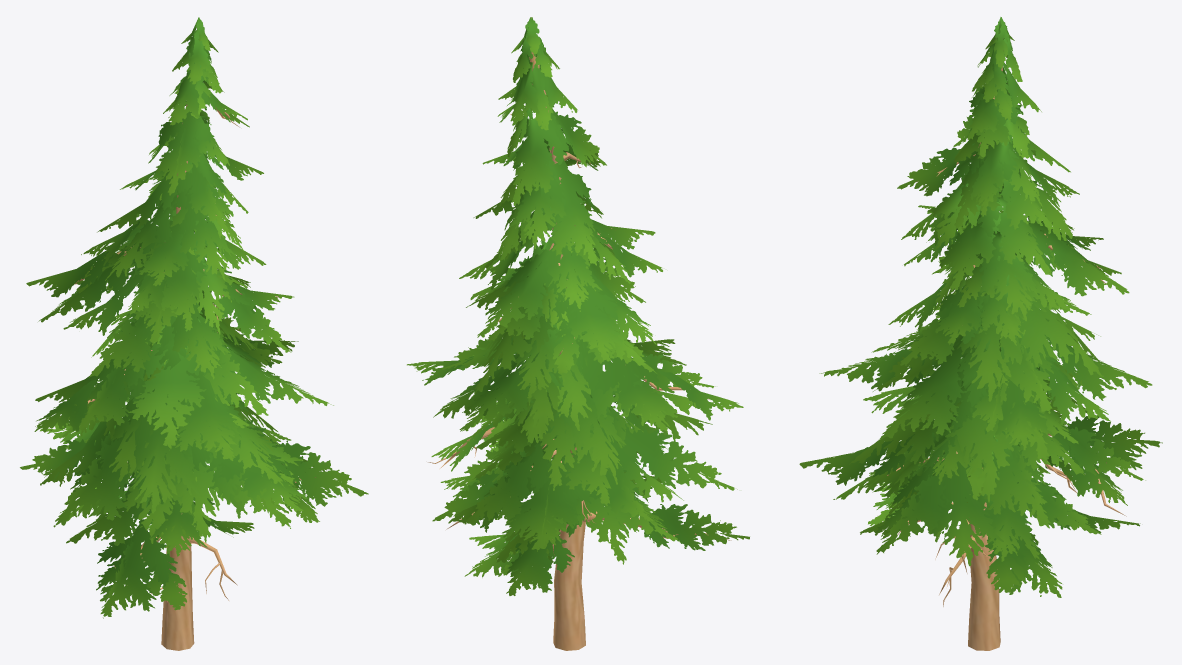
Rendered from SM_Pine01.glb.
3 views of the same model, side by side, from view 1: azimuth 30°, elevation 25°; view 2: azimuth 150°, elevation 25°; view 3: azimuth 270°, elevation 25° (orthographic). The views are drawn at different scales.
Visible parts, largest first — view 1: SM_Pine01; view 2: SM_Pine01; view 3: SM_Pine01.
Part boxes in pixels (x1=…): SM_Pine01: x1=20, y1=17, x2=368, y2=650; SM_Pine01: x1=407, y1=17, x2=749, y2=650; SM_Pine01: x1=799, y1=17, x2=1162, y2=650.
Size of the model in its own units: 8.22 by 15.85 by 8.43.
Materials: 2 (2 with a texture image).
